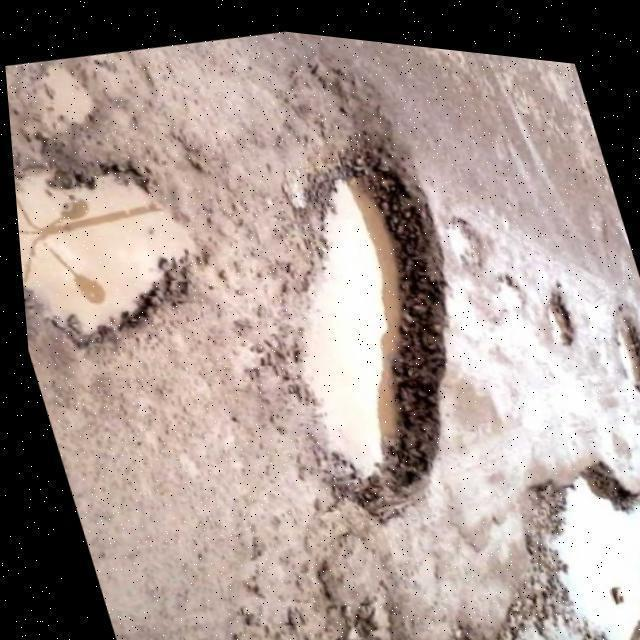Pothole: (304, 134, 446, 518), (16, 174, 195, 332), (496, 462, 640, 639)
